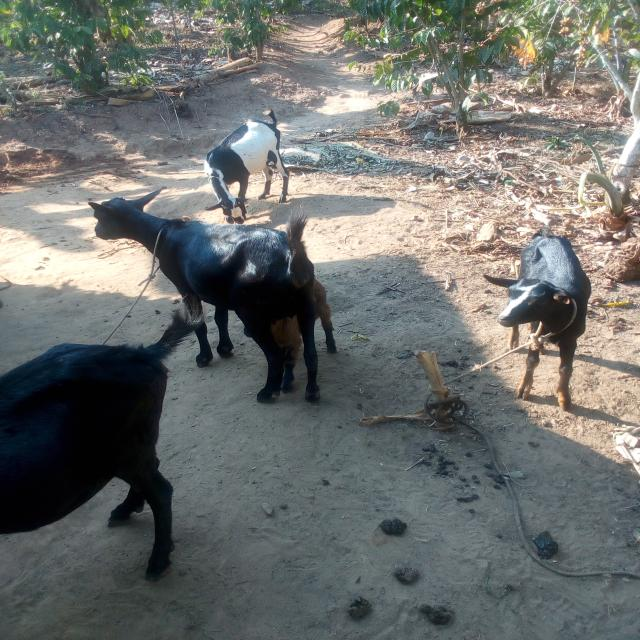goat: (77, 172, 381, 419)
